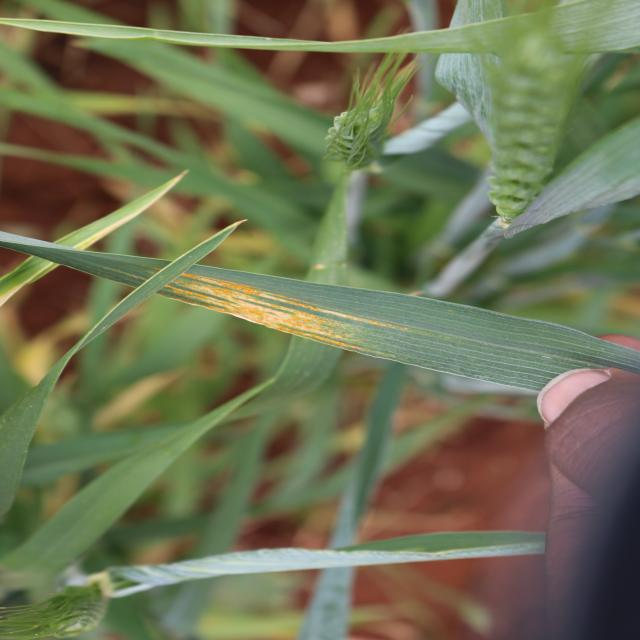Stripe Rust: (176, 271, 312, 337), (330, 331, 453, 348)
